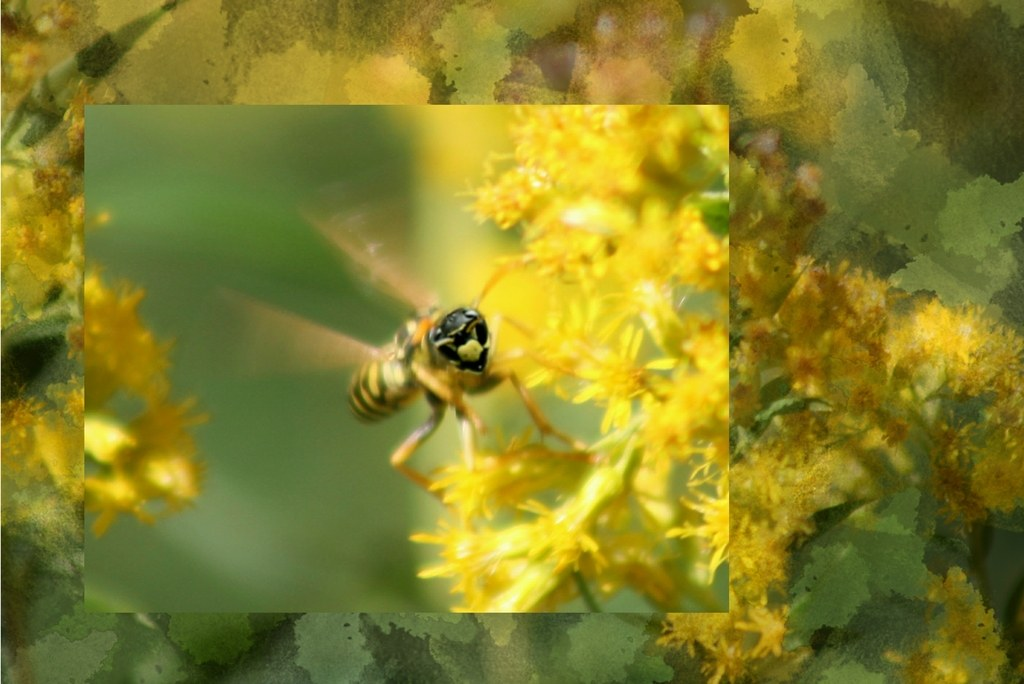bee: (201, 197, 596, 502)
insect: (410, 106, 730, 614)
